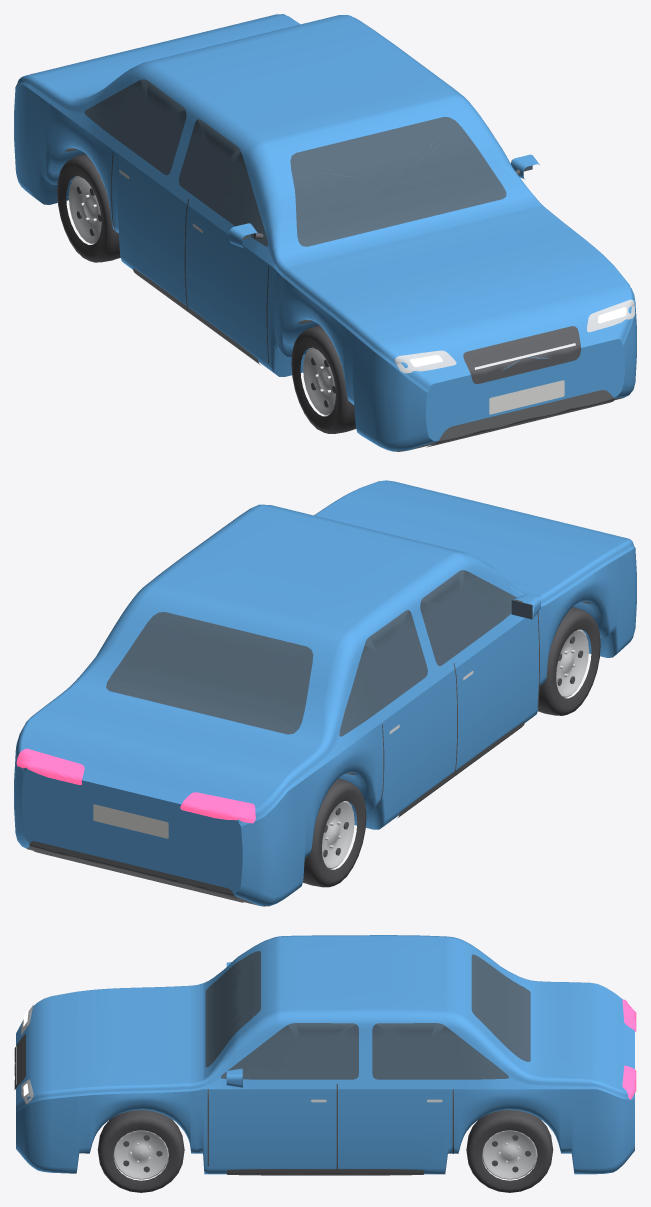
Rendered from car-sedan.glb.
The picture shows the model from 3 angles, top to bottom: view 1: azimuth 30°, elevation 25°; view 2: azimuth 150°, elevation 25°; view 3: azimuth 270°, elevation 25°; orthographic projection. The views are drawn at different scales.
Visible parts, largest first — view 1: car-sedan; view 2: car-sedan; view 3: car-sedan.
Part boxes in pixels (x1,y1,x2,y2): car-sedan: [14, 14, 636, 451]; car-sedan: [14, 480, 636, 906]; car-sedan: [14, 935, 636, 1192].
Bounding box in the file's own units: 2.1 × 1.45 × 4.73.
